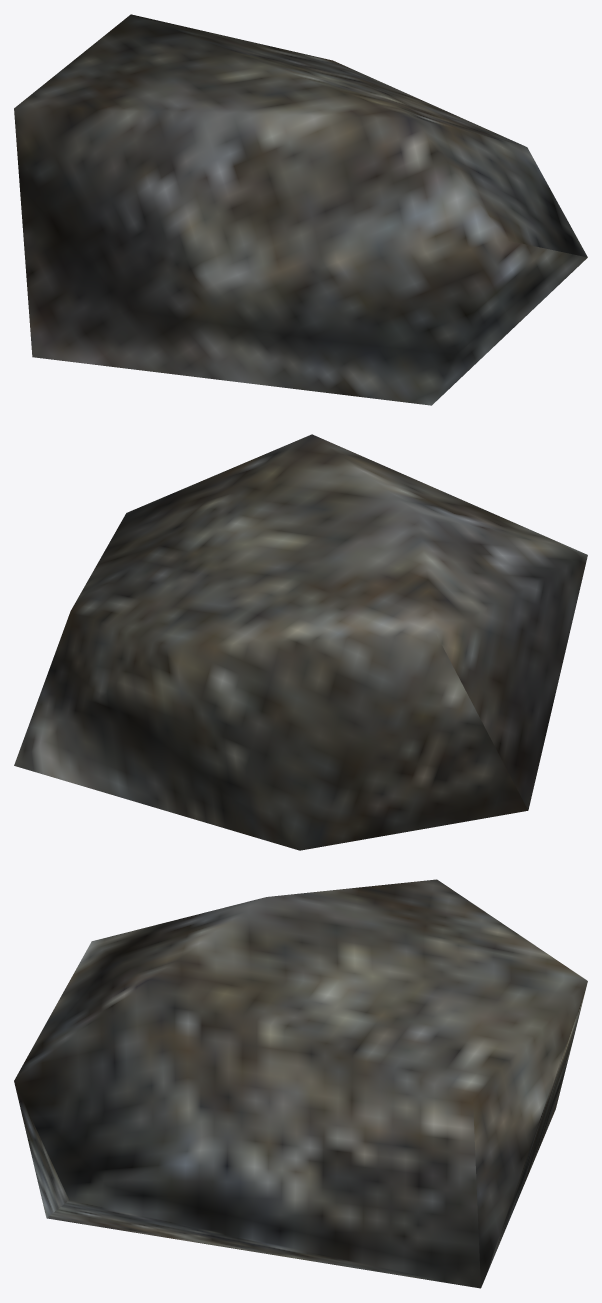
The model's file is Rock2_1.fbx.
3 views of the same model, one above another, from view 1: azimuth 30°, elevation 25°; view 2: azimuth 150°, elevation 25°; view 3: azimuth 270°, elevation 25° (orthographic). The views are drawn at different scales.
Parts seen in each view (by area): view 1: Rock2_LOD_1; view 2: Rock2_LOD_1; view 3: Rock2_LOD_1.
Boxes of the visible parts, x1,y1,x2,y2 form: Rock2_LOD_1: [14, 14, 587, 405]; Rock2_LOD_1: [14, 434, 587, 850]; Rock2_LOD_1: [14, 879, 587, 1288].
Bounding box in the file's own units: 1.09 × 0.6511 × 1.18.
